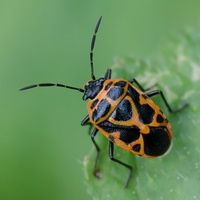insect: (19, 16, 188, 187)
